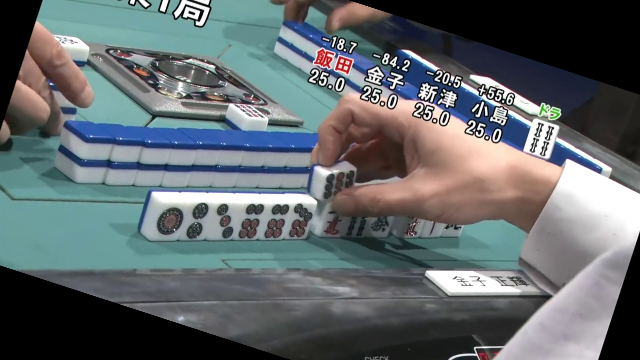Tehai: (139, 181, 476, 241)
